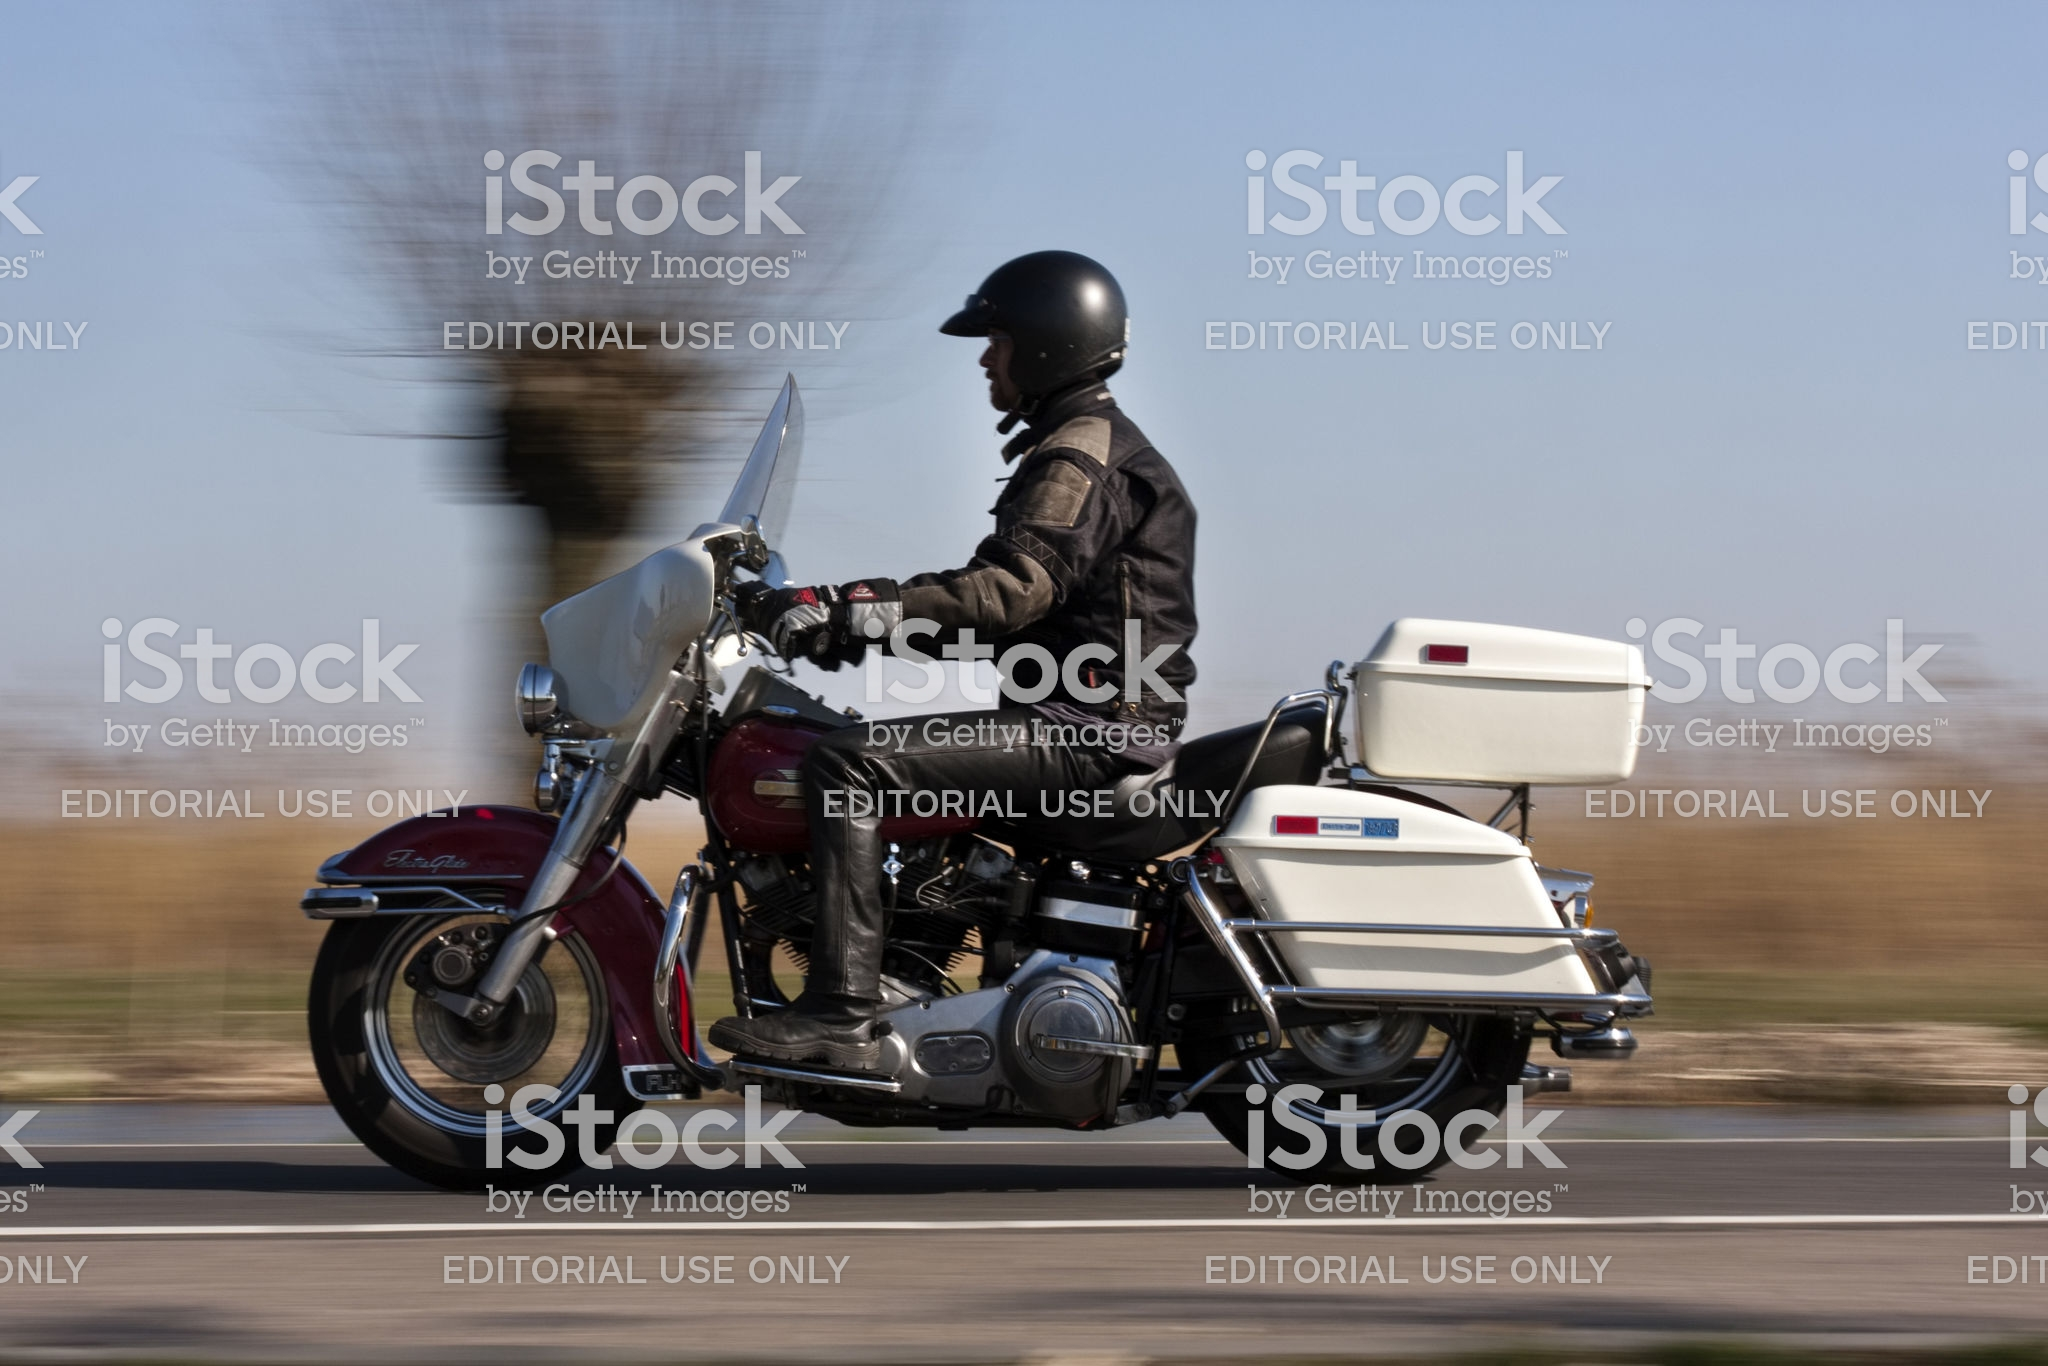helmet: (949, 255, 1167, 406)
